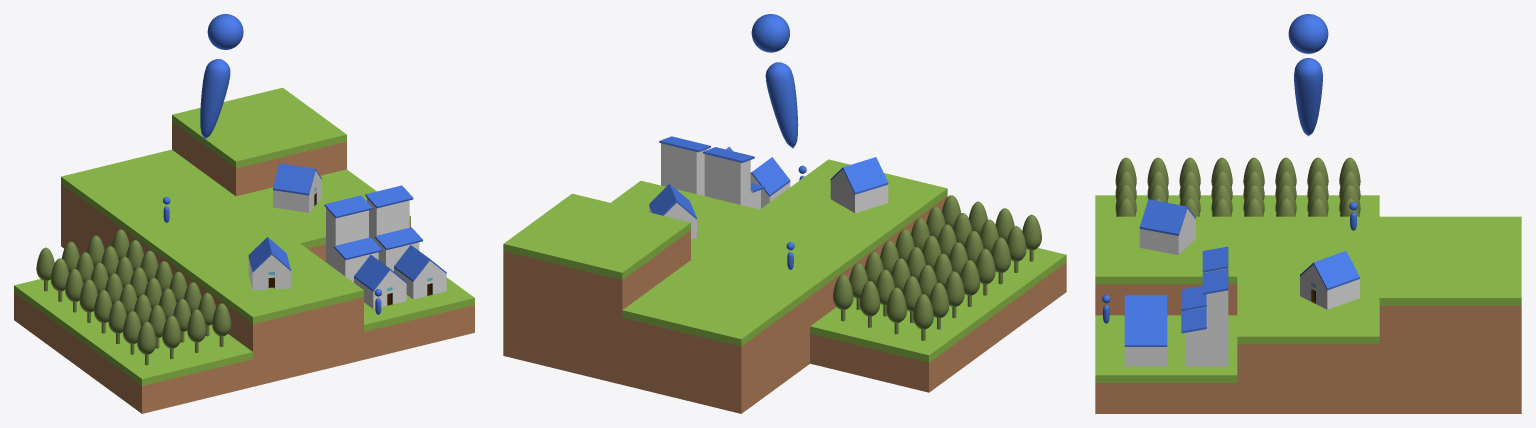
The model's file is orgglb.glb.
3 renders of one model, left to right at view 1: azimuth 30°, elevation 25°; view 2: azimuth 150°, elevation 25°; view 3: azimuth 270°, elevation 25°, orthographic. The views are drawn at different scales.
Visible parts, largest first — view 1: Cube.002, Cylinder.004, Cube.009, Cube.025, Cylinder.003, Cube.026, Cube.008, Cube.024, Cube.007; view 2: Cube.002, Cylinder.004, Cylinder.003, Cube.009, Cube.024, Cube.025, Cube.026, Cube.007; view 3: Cube.002, Cylinder.004, Cube.025, Cylinder.003, Cube.026, Cube.024, Cube.008, Cube.009, Cube.007.
Part boxes in pixels (x1=…): Cube.002: x1=14, y1=87, x2=474, y2=413; Cylinder.004: x1=36, y1=229, x2=231, y2=365; Cube.009: x1=324, y1=195, x2=382, y2=282; Cube.025: x1=365, y1=185, x2=422, y2=271; Cylinder.003: x1=200, y1=14, x2=243, y2=139; Cube.026: x1=273, y1=163, x2=321, y2=212; Cube.008: x1=394, y1=245, x2=446, y2=299; Cube.024: x1=248, y1=237, x2=290, y2=290; Cube.007: x1=354, y1=255, x2=406, y2=308; Cube.002: x1=503, y1=159, x2=1066, y2=413; Cylinder.004: x1=833, y1=195, x2=1041, y2=340; Cylinder.003: x1=751, y1=14, x2=798, y2=148; Cube.009: x1=703, y1=147, x2=764, y2=209; Cube.024: x1=830, y1=157, x2=888, y2=213; Cube.025: x1=659, y1=136, x2=710, y2=195; Cube.026: x1=649, y1=184, x2=696, y2=238; Cube.007: x1=750, y1=157, x2=790, y2=208; Cube.002: x1=1095, y1=195, x2=1521, y2=413; Cylinder.004: x1=1115, y1=157, x2=1360, y2=216; Cube.025: x1=1181, y1=268, x2=1228, y2=366; Cylinder.003: x1=1288, y1=14, x2=1328, y2=136; Cube.026: x1=1300, y1=251, x2=1359, y2=309; Cube.024: x1=1139, y1=199, x2=1195, y2=254; Cube.008: x1=1124, y1=317, x2=1167, y2=366; Cube.009: x1=1181, y1=246, x2=1228, y2=311; Cube.007: x1=1124, y1=295, x2=1167, y2=316.
Size of the model in its own units: 1 by 0.8159 by 1.
